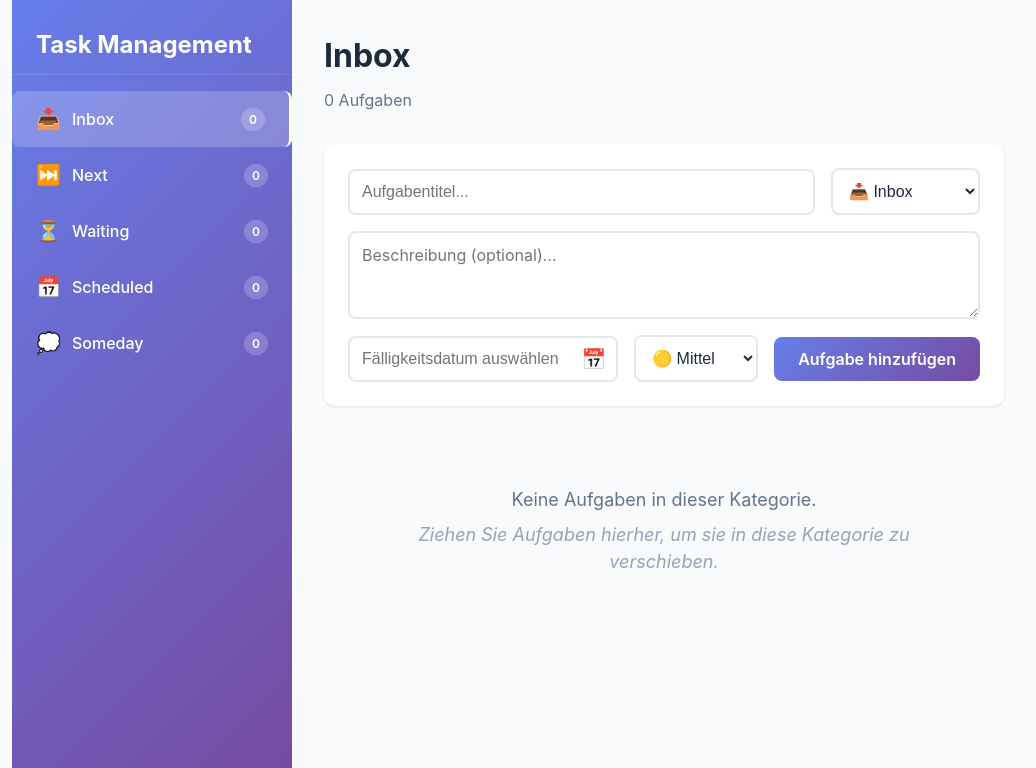
it: App › Task Management › should add a new task
The image size is (1036, 768).
In the field with placeholder "Aufgabentitel...": [582, 192] box [348,168,815,214], type "New Test Task"
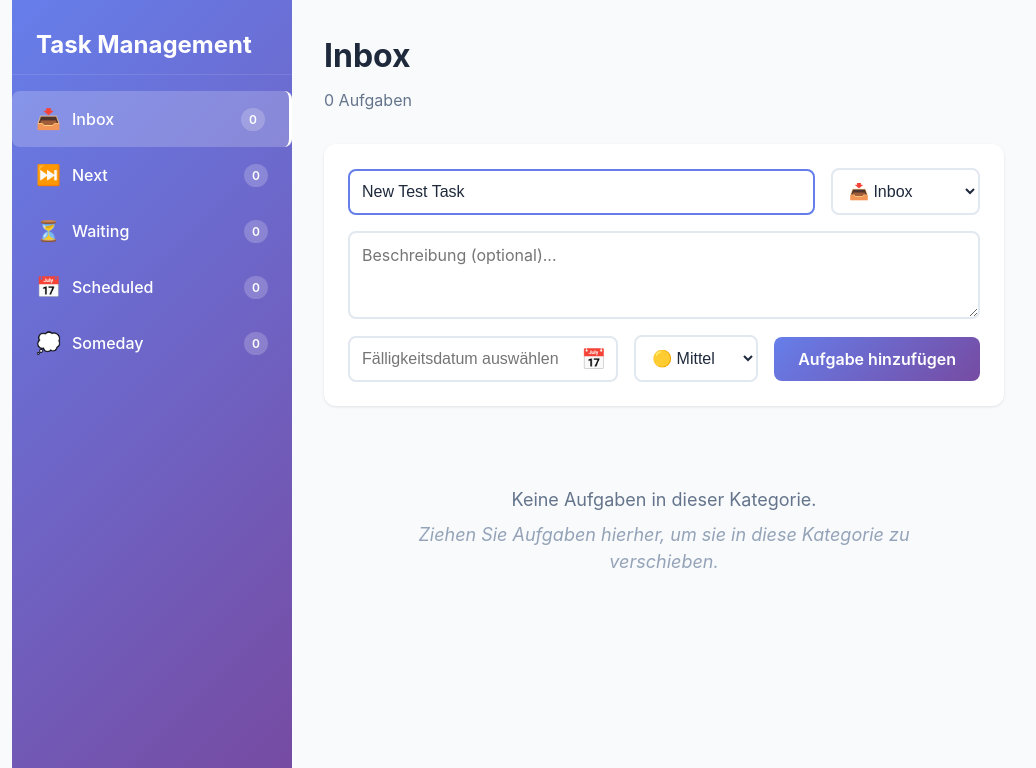
In the text box with placeholder "Beschreibung (optional)...": [664, 275] box [348,231,980,319], type "Test Description"
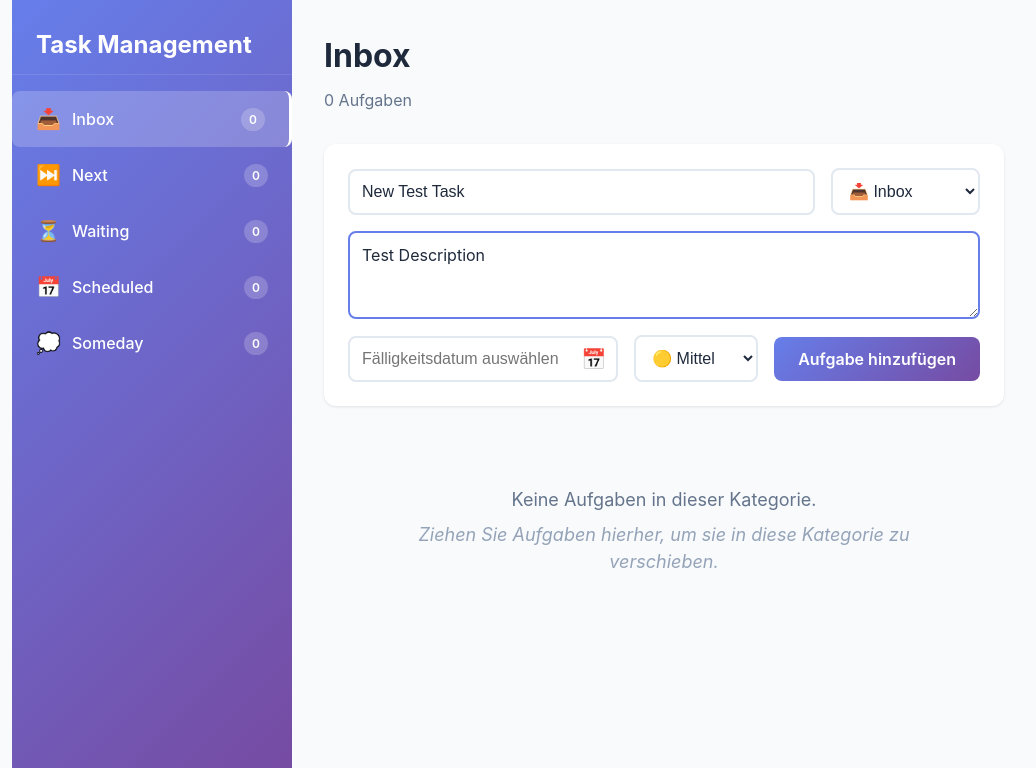
Click the button "Aufgabe hinzufügen": [877, 358] box [774,336,980,380]
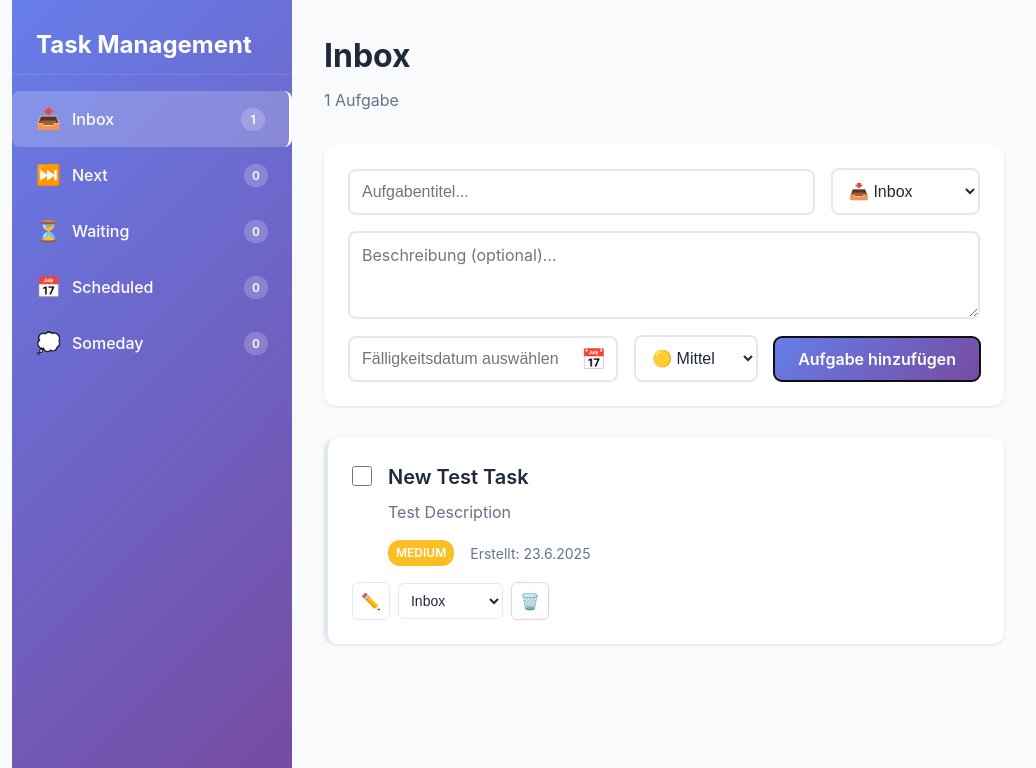
Check: the heading "New Test Task" is shown, box [388,465,529,489]
Check: the text "Test Description" is shown, box [388,502,511,522]
Check: the text "1 Aufgabe" is shown, box [324,90,399,110]
